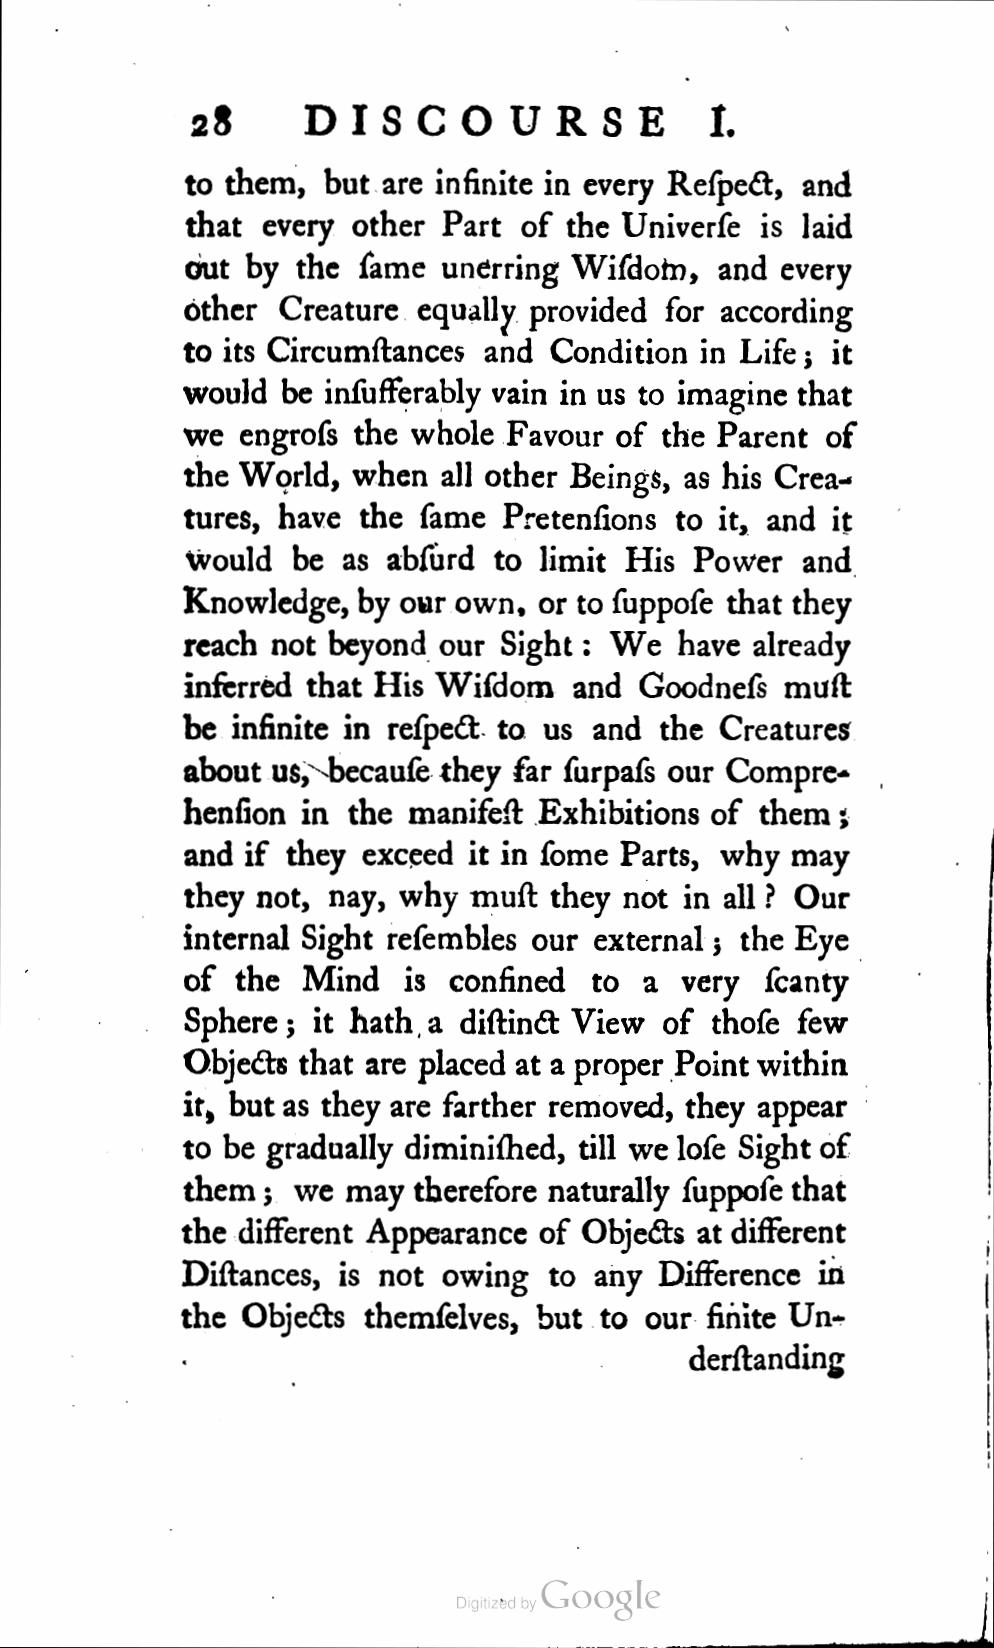catchword: (688, 1340, 848, 1380)
header: (298, 98, 740, 146)
page_num: (186, 97, 236, 140)
top_p: (180, 168, 856, 1334)
